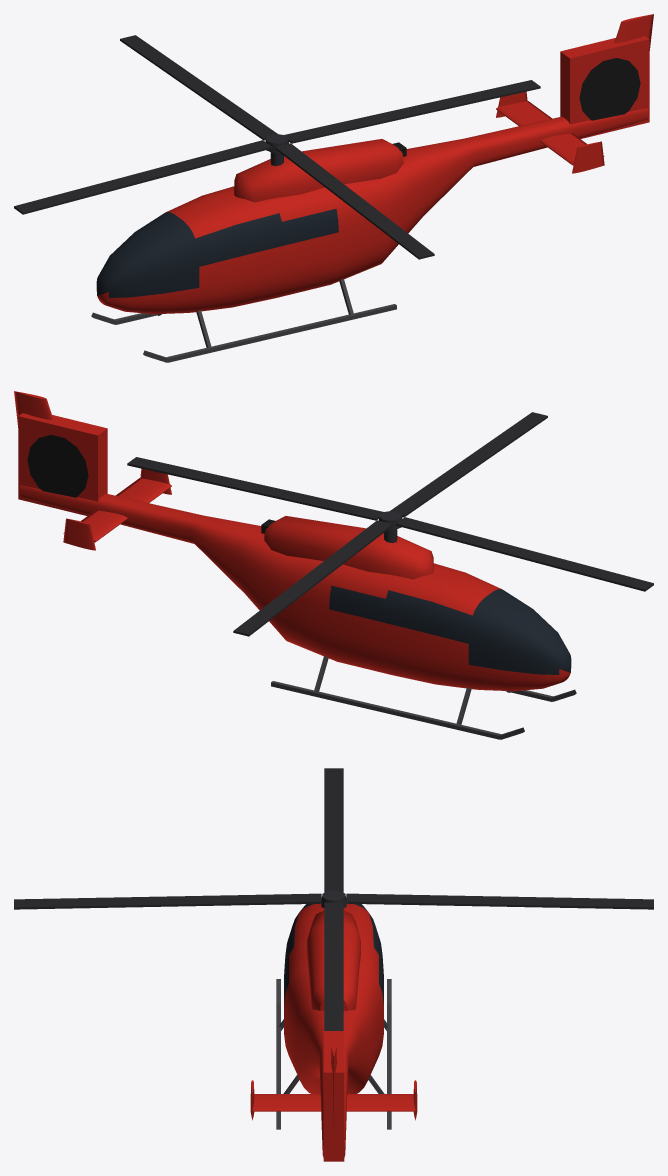
3 renders of one model, top to bottom at view 1: azimuth 30°, elevation 25°; view 2: azimuth 150°, elevation 25°; view 3: azimuth 270°, elevation 25°, orthographic. The views are drawn at different scales.
Visible parts, largest first — view 1: ec45; view 2: ec45; view 3: ec45.
Boxes of the visible parts, x1,y1,x2,y2 form: ec45: (14,14,653,362); ec45: (14,391,653,739); ec45: (14,768,653,1161).
Bounding box in the file's own units: 13.5 × 4.19 × 11.
